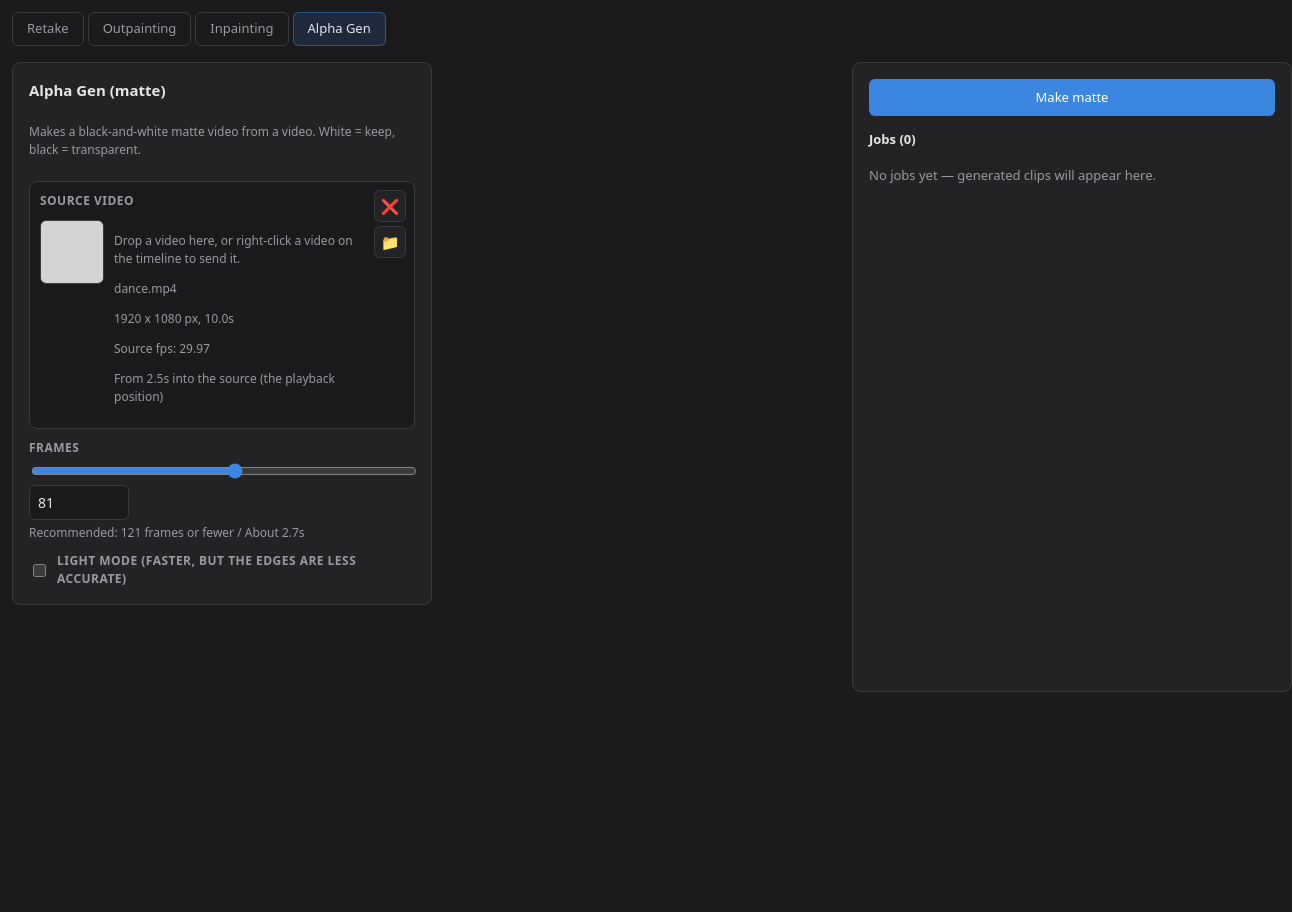
Test: EditScreen — Alpha Gen サブタブ › LTX 2.3 のサーバーが断ったら（422）エラーカードに出す
The image size is (1292, 912).
Click the button "Make matte": (1072, 97) [869,78,1275,116]
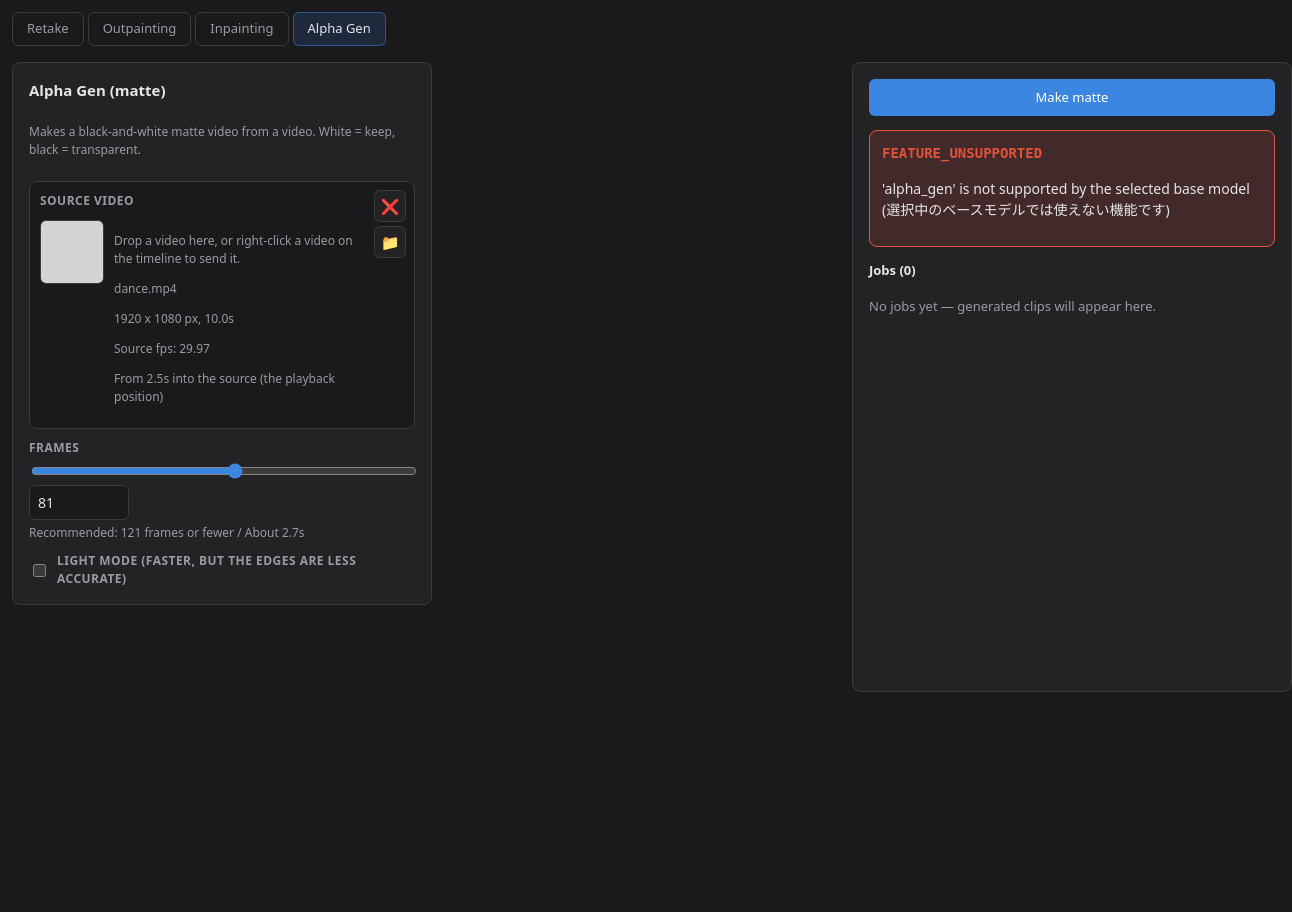
Now the text "FEATURE_UNSUPPORTED" is shown, box [882,145,1042,161]
